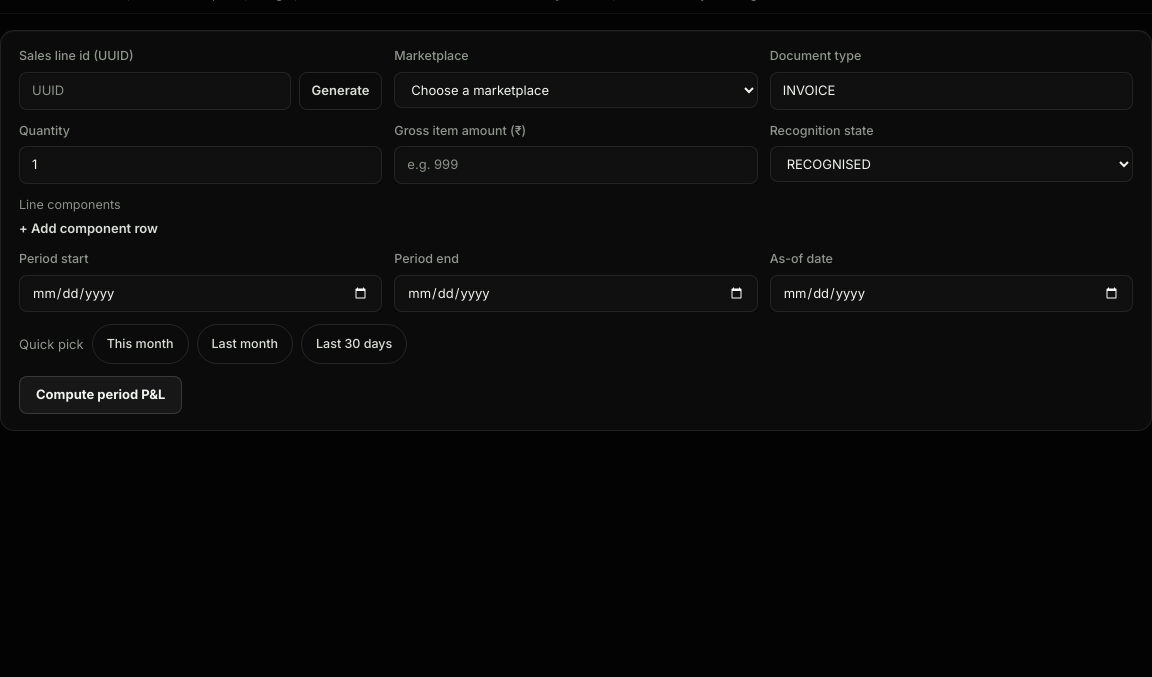
Period P&L advertising line (ST-01) › shows the entered amount
Select "Amazon" in the dropdown labelled "Marketplace": [576, 90] box [394, 72, 758, 108]
In the field labelled "Gross item amount (₹)": [576, 165] box [394, 146, 758, 184], type "999"
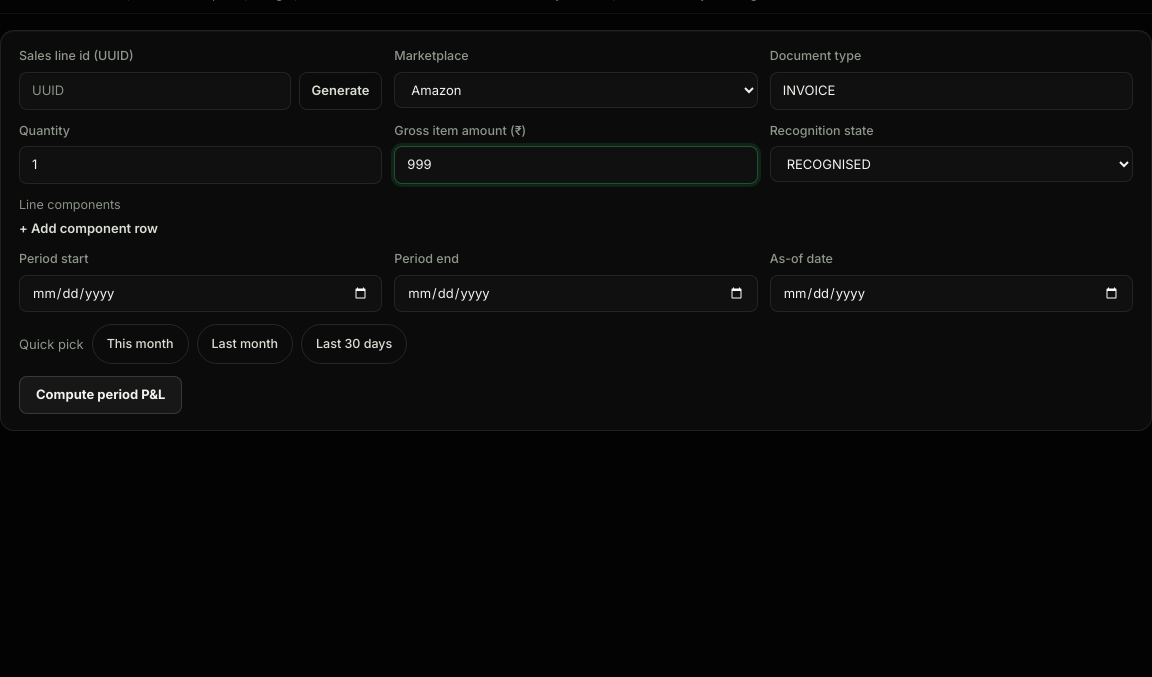
In the field labelled "Sales line id (UUID)": [155, 91] box [19, 72, 291, 110], type "7c1d3e50-0000-4000-8000-000000000003"
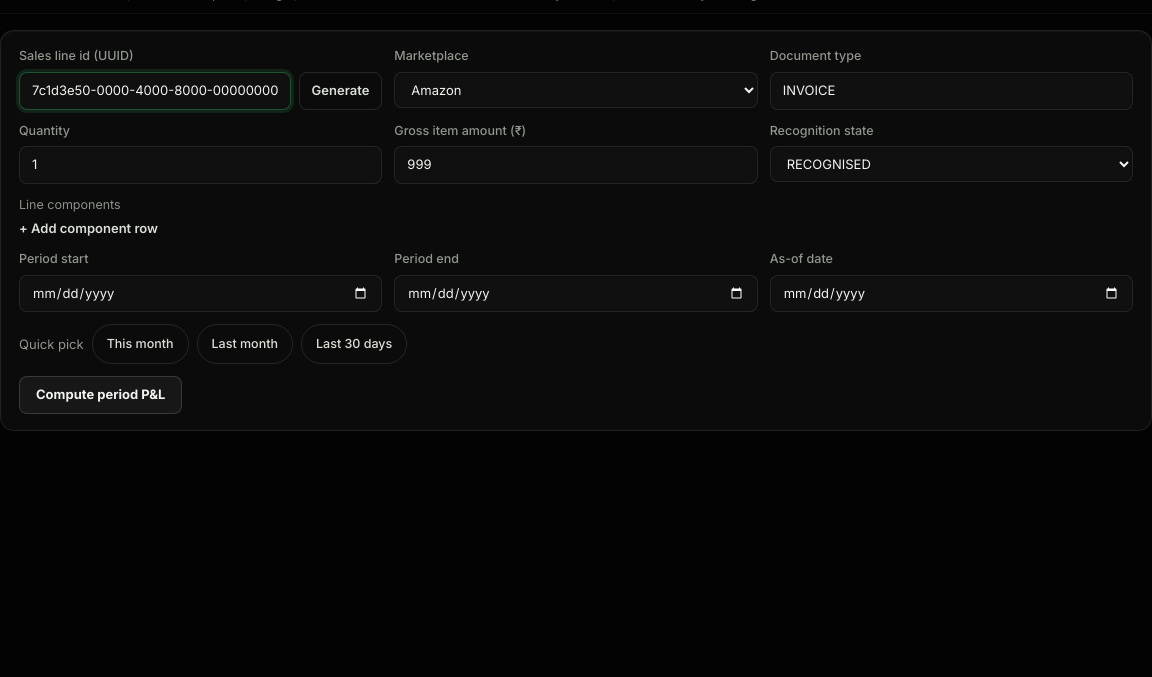
In the date field labelled "Period start": [201, 294] box [19, 275, 382, 312], type "2026-09-01"
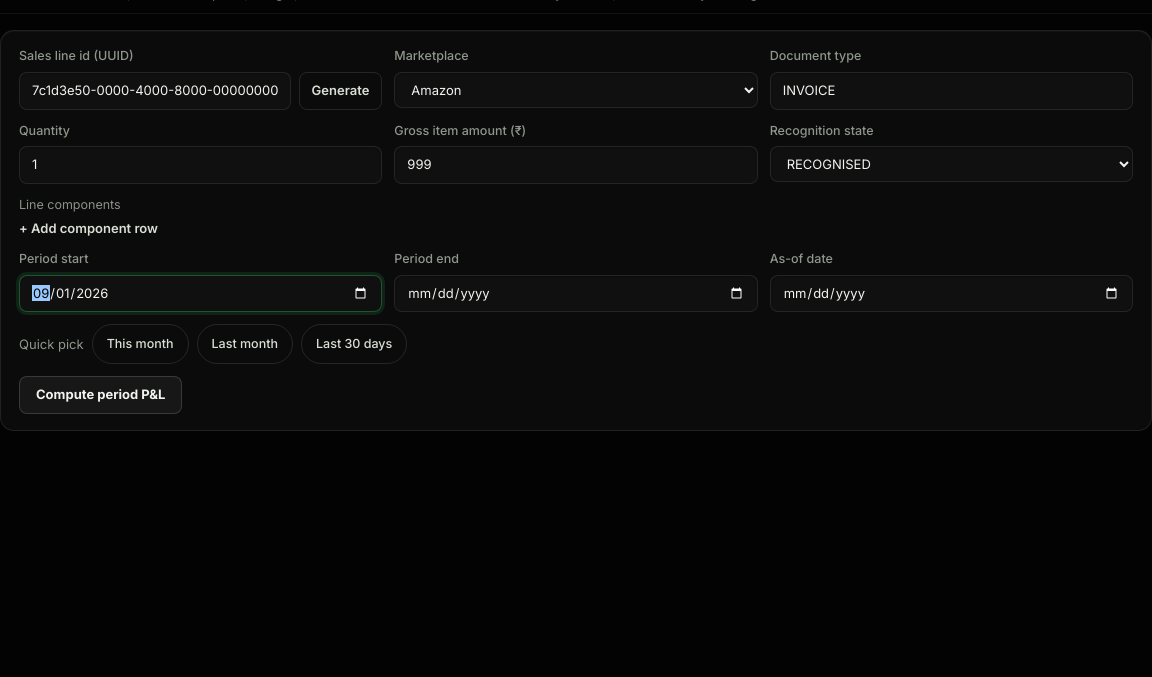
In the date field labelled "Period end": [576, 294] box [394, 275, 758, 312], type "2026-09-30"
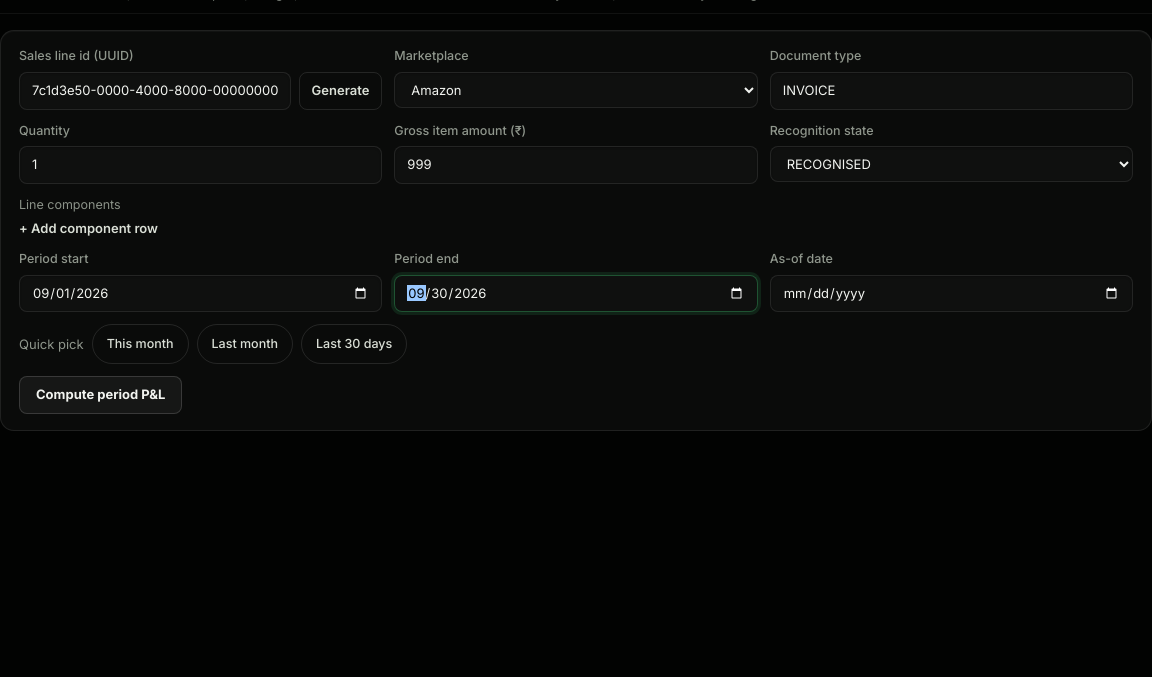
In the date field labelled "As-of date": [951, 294] box [770, 275, 1133, 312], type "2026-09-30"
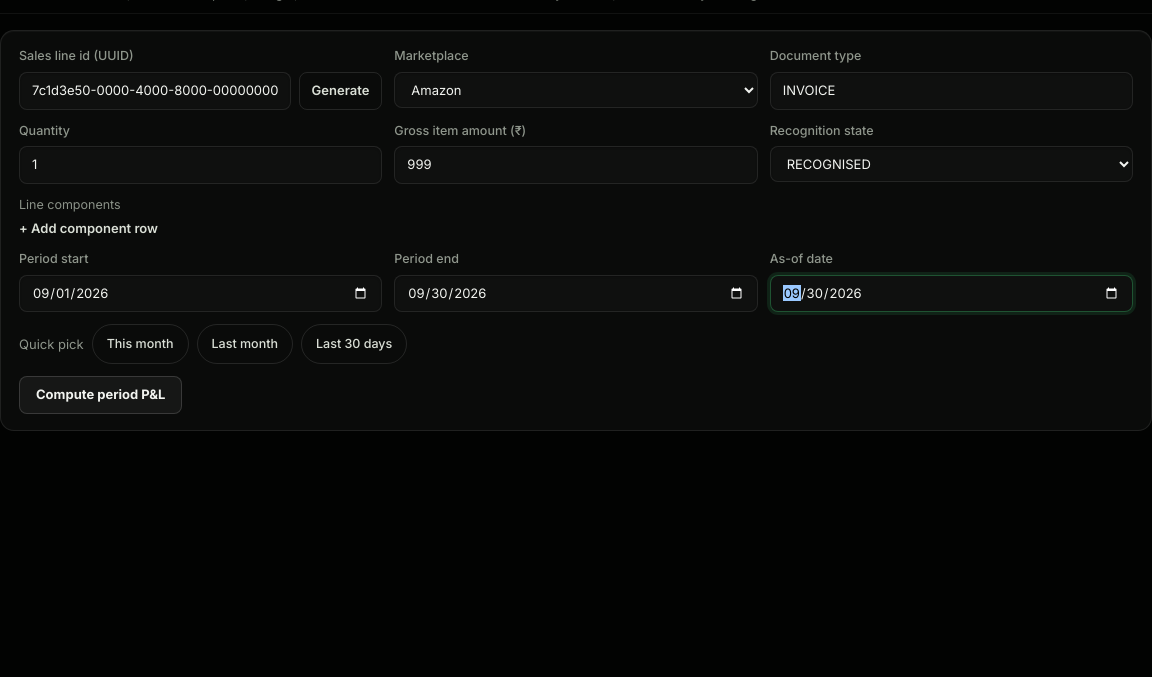
Click the button "Compute period P&L": [101, 395] box [19, 376, 182, 414]
(page scrolled)
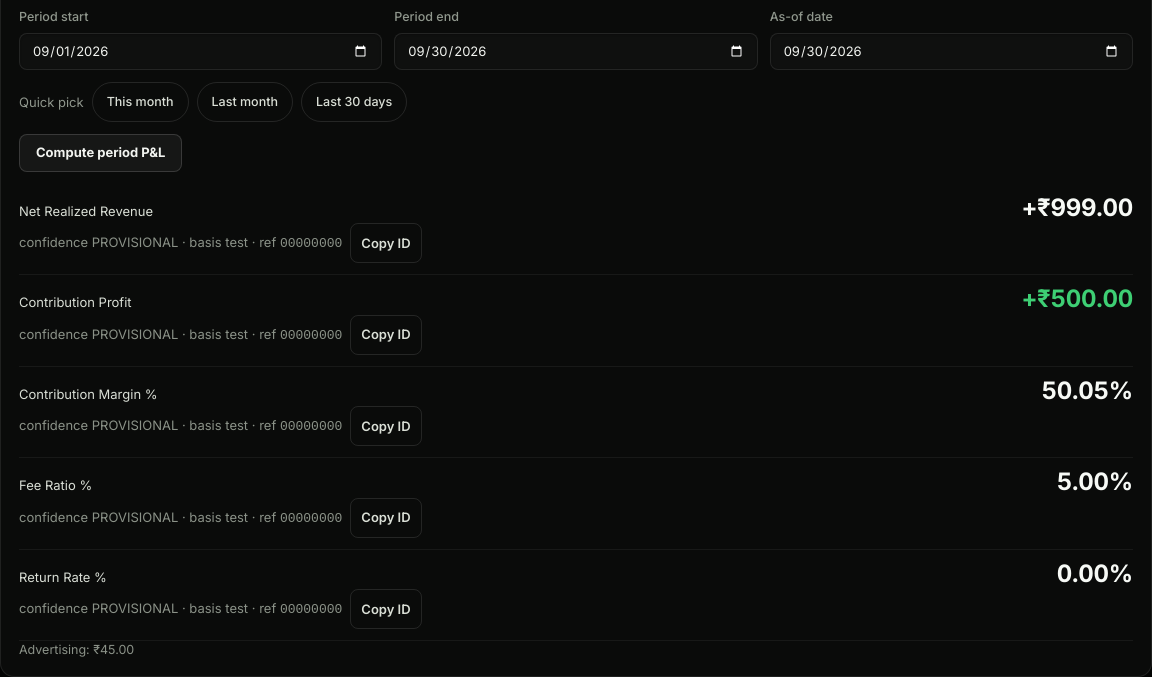
Expected: the text "Contribution Profit" is shown, [19, 294, 132, 310]
Expected: the text with test id "pnl-advertising" reads "Advertising: ₹45.00", [19, 642, 134, 657]
